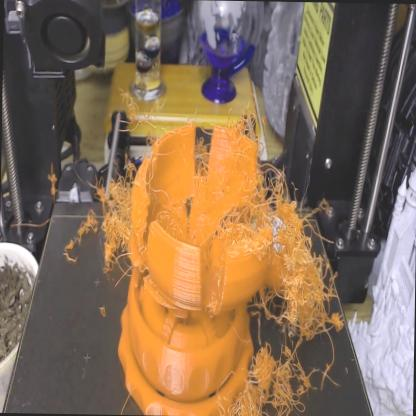fail: (256, 170, 336, 301), (248, 304, 328, 416), (63, 163, 131, 285), (204, 399, 249, 416)
